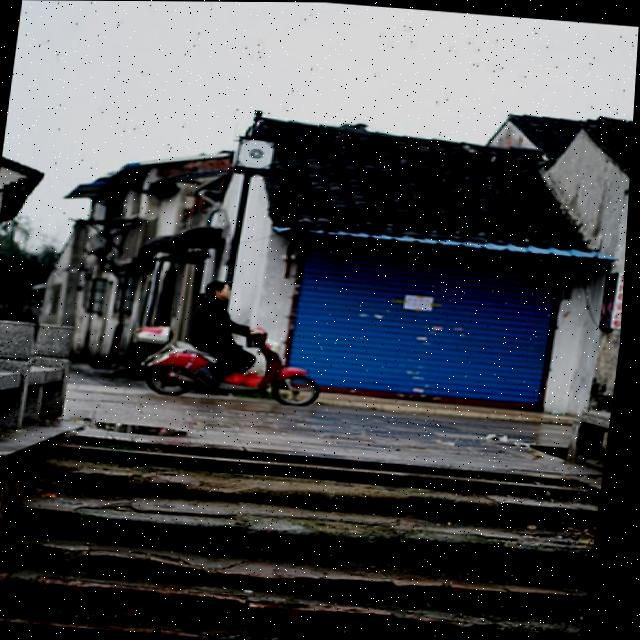motorcycle: (139, 316, 328, 409)
